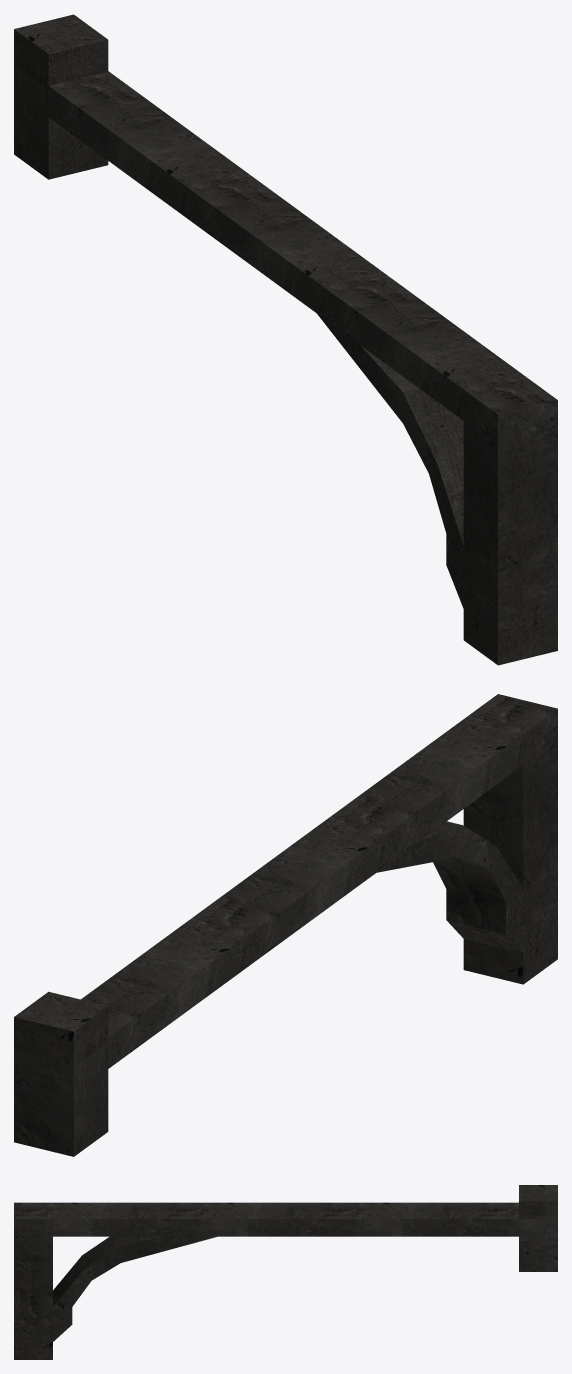
Rendered from SM_Support_01_a.FBX.
The picture shows the model from 3 angles, top to bottom: view 1: azimuth 30°, elevation 25°; view 2: azimuth 150°, elevation 25°; view 3: azimuth 270°, elevation 25°; orthographic projection. The views are drawn at different scales.
Parts seen in each view (by area): view 1: SM_Support_01_a; view 2: SM_Support_01_a; view 3: SM_Support_01_a.
Part boxes in pixels (bbox=[...]): SM_Support_01_a: bbox=[14, 14, 557, 665]; SM_Support_01_a: bbox=[14, 694, 557, 1156]; SM_Support_01_a: bbox=[14, 1185, 557, 1359].
Size of what is drawn, in the model's own units: 32 by 448 by 144.
